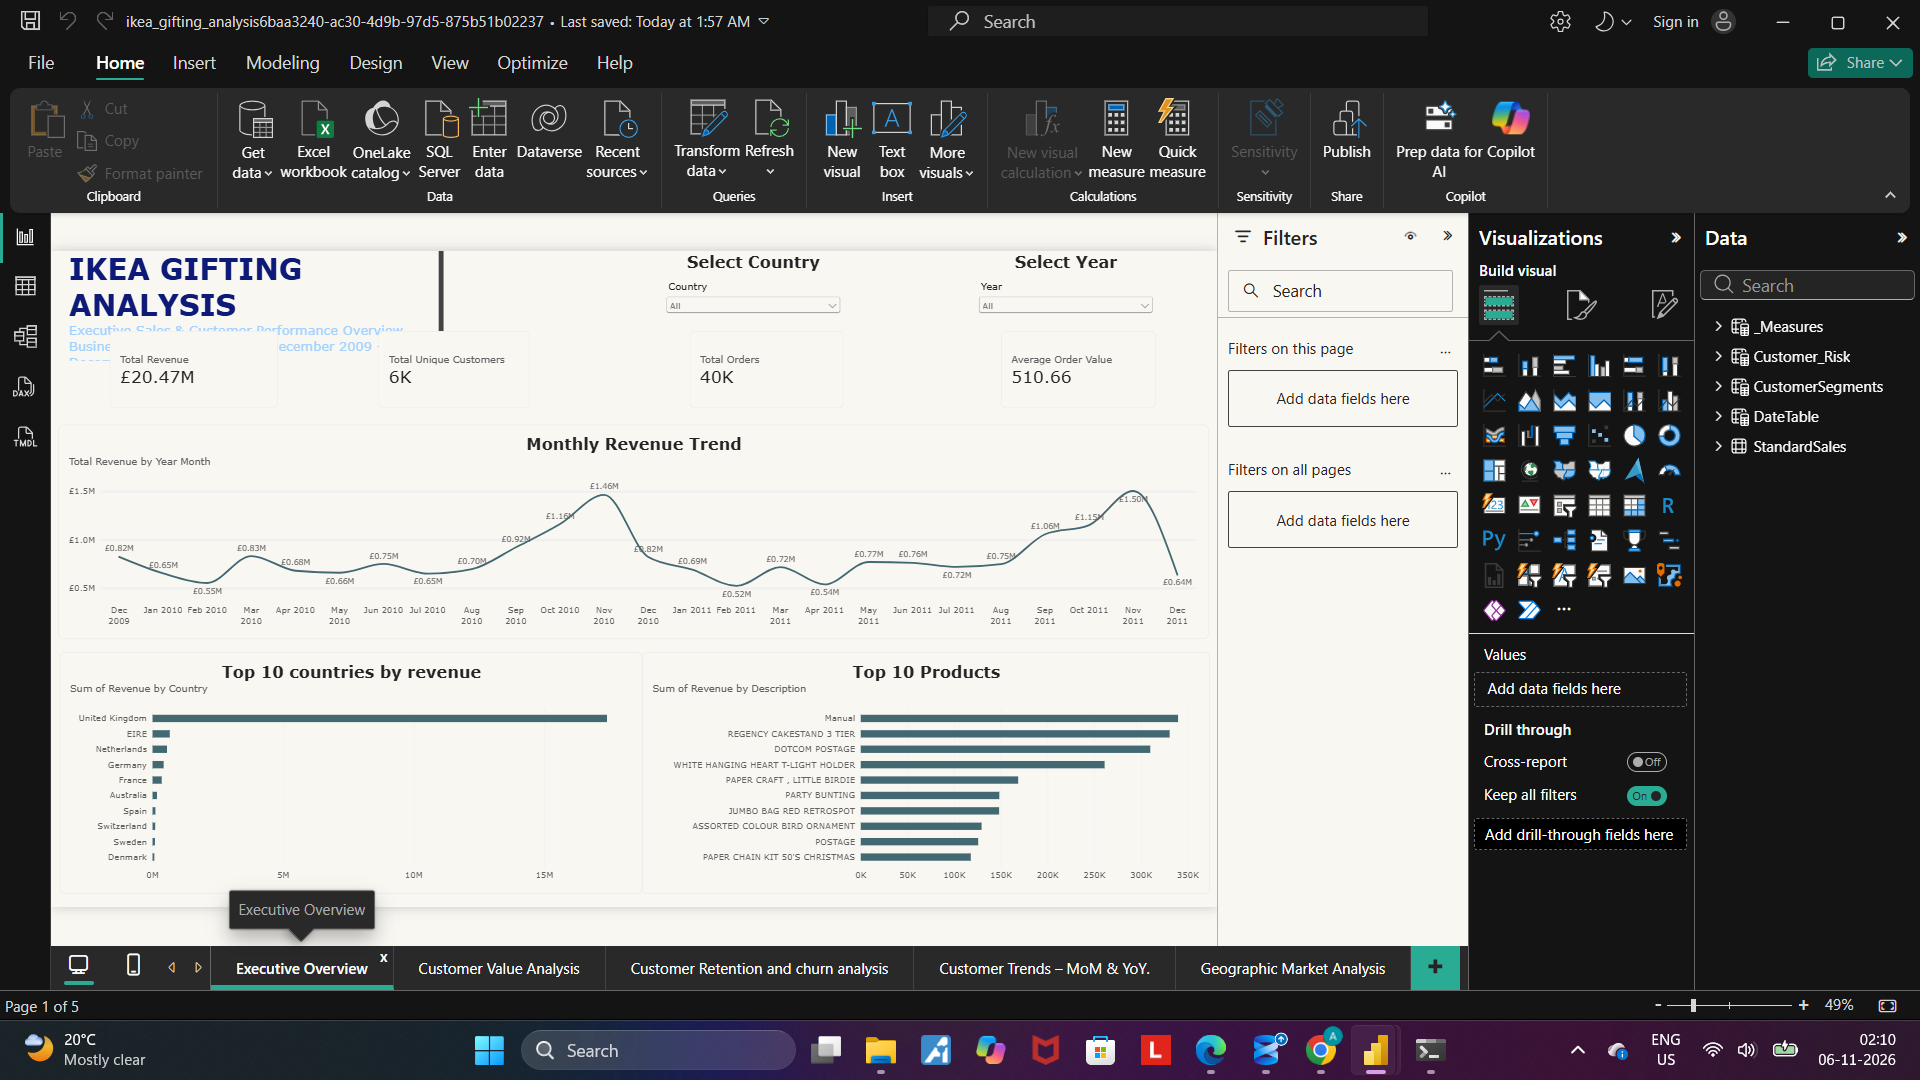

This screenshot's page, from the dashboard's own definition file:
{"tool":"powerbi","page":{"name":"Executive Overview ","canvas":[1920,1080],"ordinal":0},"visuals":[{"type":"textbox","box":[28.8,0,617.5,181.1],"z":0},{"type":"cardVisual","fields":{"Data":["Customer_Risk.Total Revenue"]},"box":[96.7,131.7,277.9,127.6],"z":1},{"type":"cardVisual","fields":{"Data":["StandardSales.Total Unique Customers"]},"box":[539.3,131.7,249.1,127.6],"z":3},{"type":"cardVisual","fields":{"Data":["Customer_Risk.Average Order Value"]},"box":[1564.3,131.7,255.2,127.6],"z":4},{"type":"cardVisual","fields":{"Data":["Customer_Risk.Total Orders"]},"box":[1051.8,131.7,253.2,127.6],"z":5},{"type":"lineChart","title":"Monthly Revenue Trend","fields":{"Category":["DateTable.Year Month"],"Y":["Customer_Risk.Total Revenue"]},"box":[12.3,286.1,1893.7,352],"z":6},{"type":"clusteredBarChart","title":"Top 10 Products ","fields":{"Category":["StandardSales.Description"],"Y":["Sum(StandardSales.Revenue)"]},"box":[973.6,660.7,934.5,397.3],"z":7},{"type":"clusteredBarChart","title":"Top 10 countries by revenue ","fields":{"Category":["StandardSales.Country"],"Y":["Sum(StandardSales.Revenue)"]},"box":[14.4,660.7,959.2,397.3],"z":8},{"type":"slicer","title":"Select Country","fields":{"Values":["StandardSales.Country"]},"box":[1008.6,0,296.4,152.3],"z":9},{"type":"slicer","title":"Select Year","fields":{"Values":["StandardSales.Year"]},"box":[1523.2,0,296.4,152.3],"z":10}]}

Visuals, with their boxes on the page's 1920x1080 design canvas (x1, y1, x2, y2). These are canvas units, not pixel positions in the 1920x1080 screenshot, which may show the page scaled, cropped or inside an application window:
textbox: l=29, t=0, r=646, b=181
cardVisual - Customer_Risk.Total Revenue: l=97, t=132, r=375, b=259
cardVisual - StandardSales.Total Unique Customers: l=539, t=132, r=788, b=259
cardVisual - Customer_Risk.Average Order Value: l=1564, t=132, r=1820, b=259
cardVisual - Customer_Risk.Total Orders: l=1052, t=132, r=1305, b=259
"Monthly Revenue Trend" lineChart: l=12, t=286, r=1906, b=638
"Top 10 Products " clusteredBarChart: l=974, t=661, r=1908, b=1058
"Top 10 countries by revenue " clusteredBarChart: l=14, t=661, r=974, b=1058
"Select Country" slicer: l=1009, t=0, r=1305, b=152
"Select Year" slicer: l=1523, t=0, r=1820, b=152
